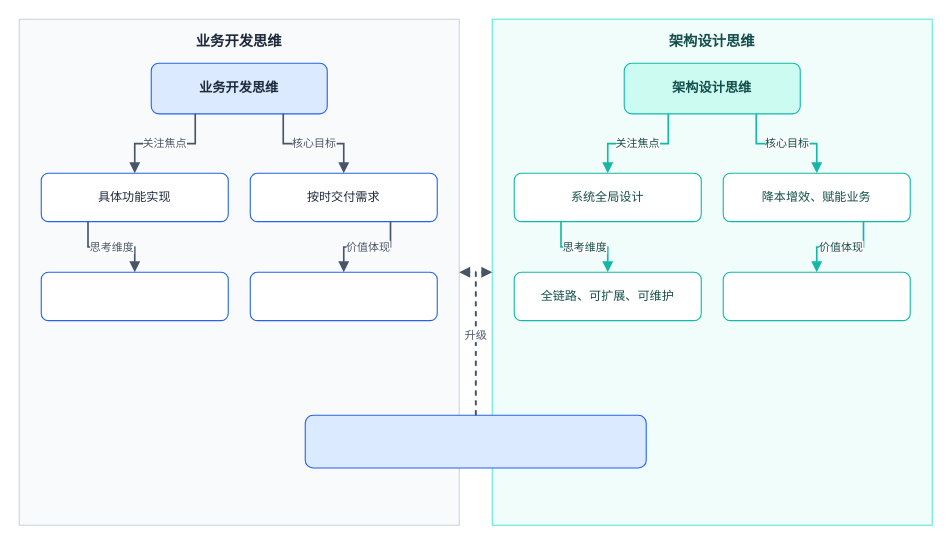
Some shapes in this 952 by 545 pixel diagram are drawn without their labels. The shapes that lost their labels are listed below. From the top down, each one's centre as x and y in pixels, then its label:
At pixel 134 296: "单一模块 / 页面".
At pixel 343 296: "完成业务指标".
At pixel 816 296: "驱动增长、降低负债".
At pixel 475 441: "认知跃迁：从被动执行 → 主动创造".
